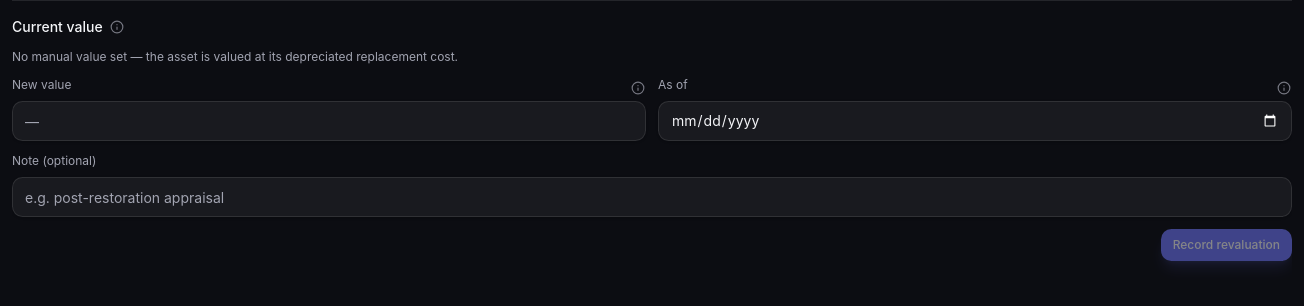
RevaluationEditor › reports a negative figure the same way
Type "-5" into the number field with test id "revaluation-amount" at (329, 121), box [12,101,646,141]
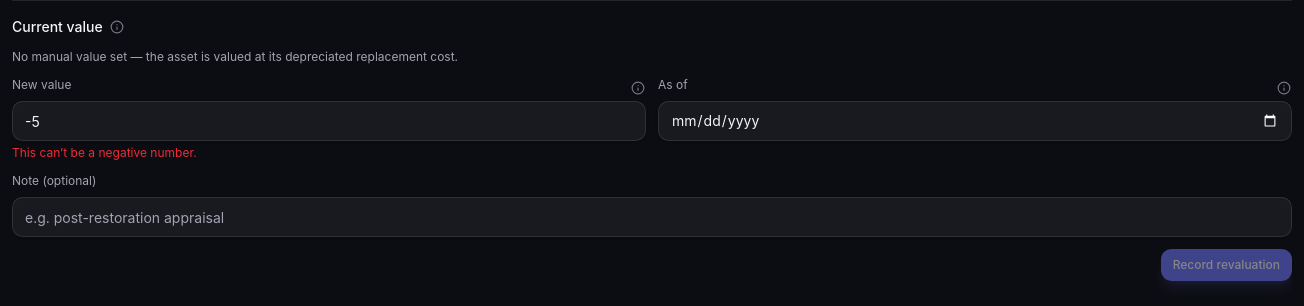
Expected: the button with test id "record-revaluation" is disabled, [1161,249,1292,281]
Expected: the message shows "negative", [12,145,197,160]
